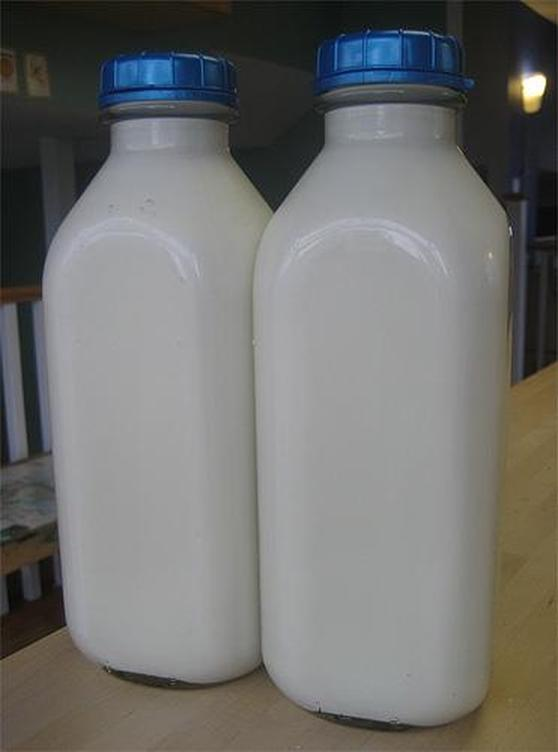milk: (257, 30, 496, 727), (37, 42, 280, 695)
